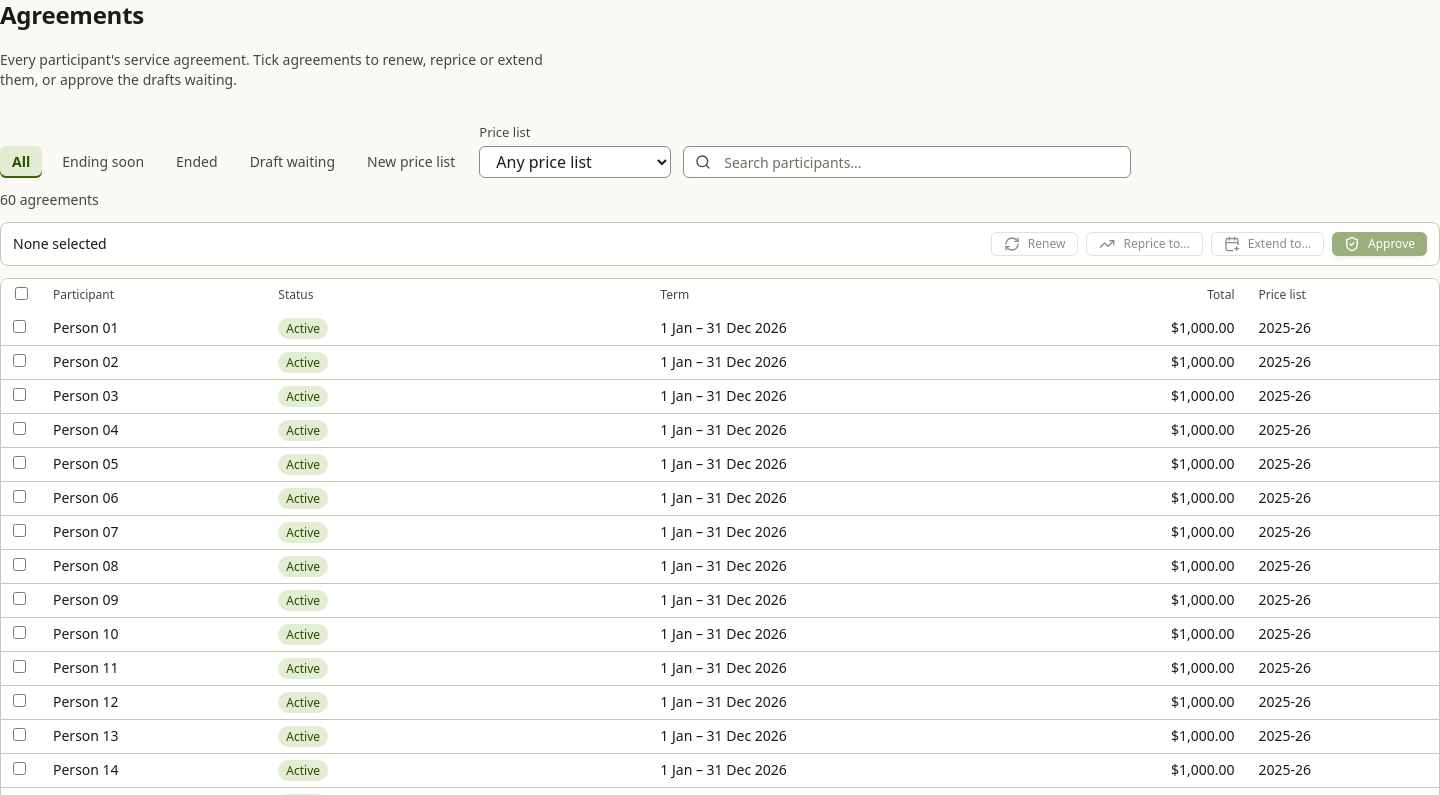
Test case: AgreementsPage bulk actions (real hook) › sends the chosen price list on a reprice
Expected: the text "Person 01" is shown, [53,318,119,337]
Click the checkbox named "Select row p1" at x=20, y=326, box [13,320,26,333]
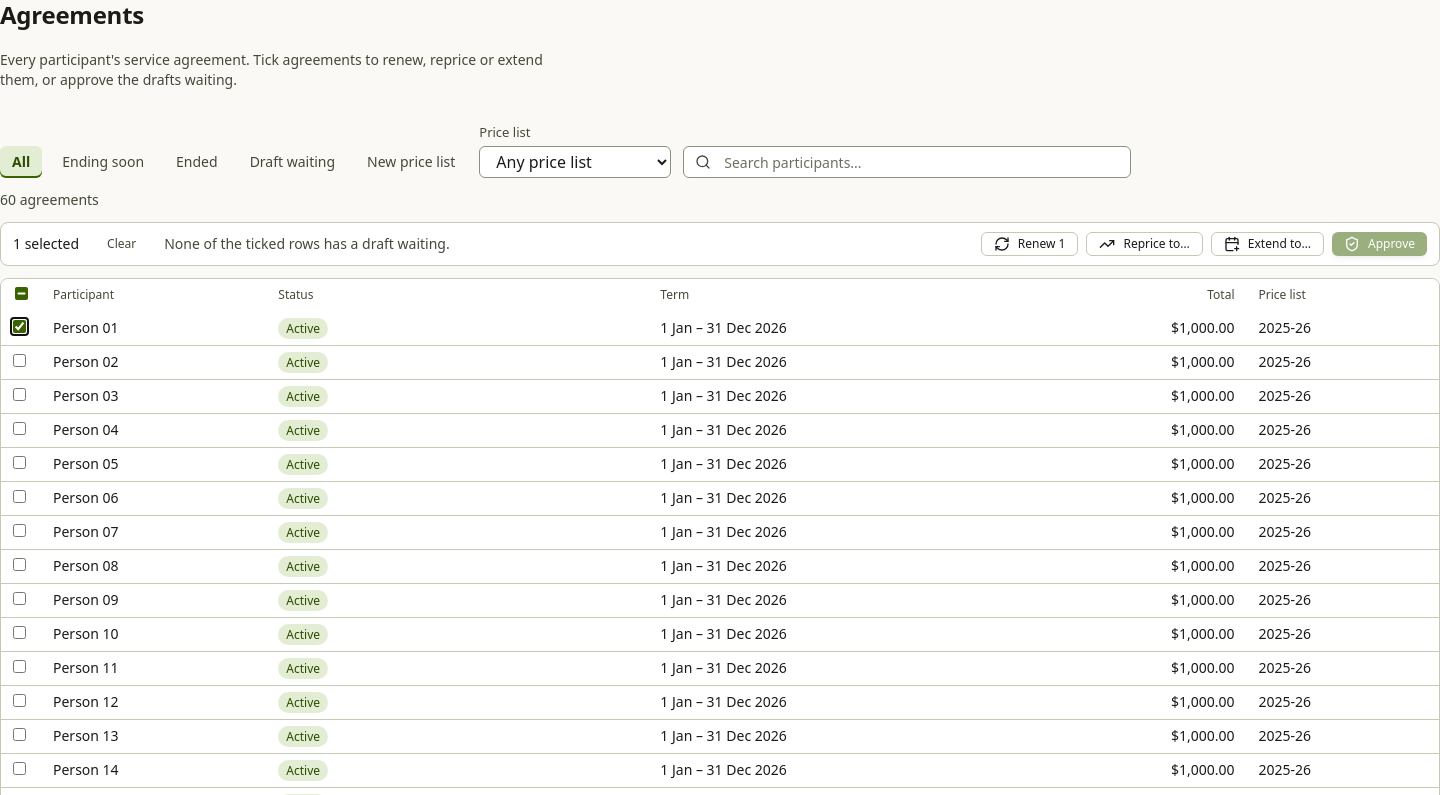
Click the button "Reprice to…" at x=1145, y=244, box [1086,232,1203,256]
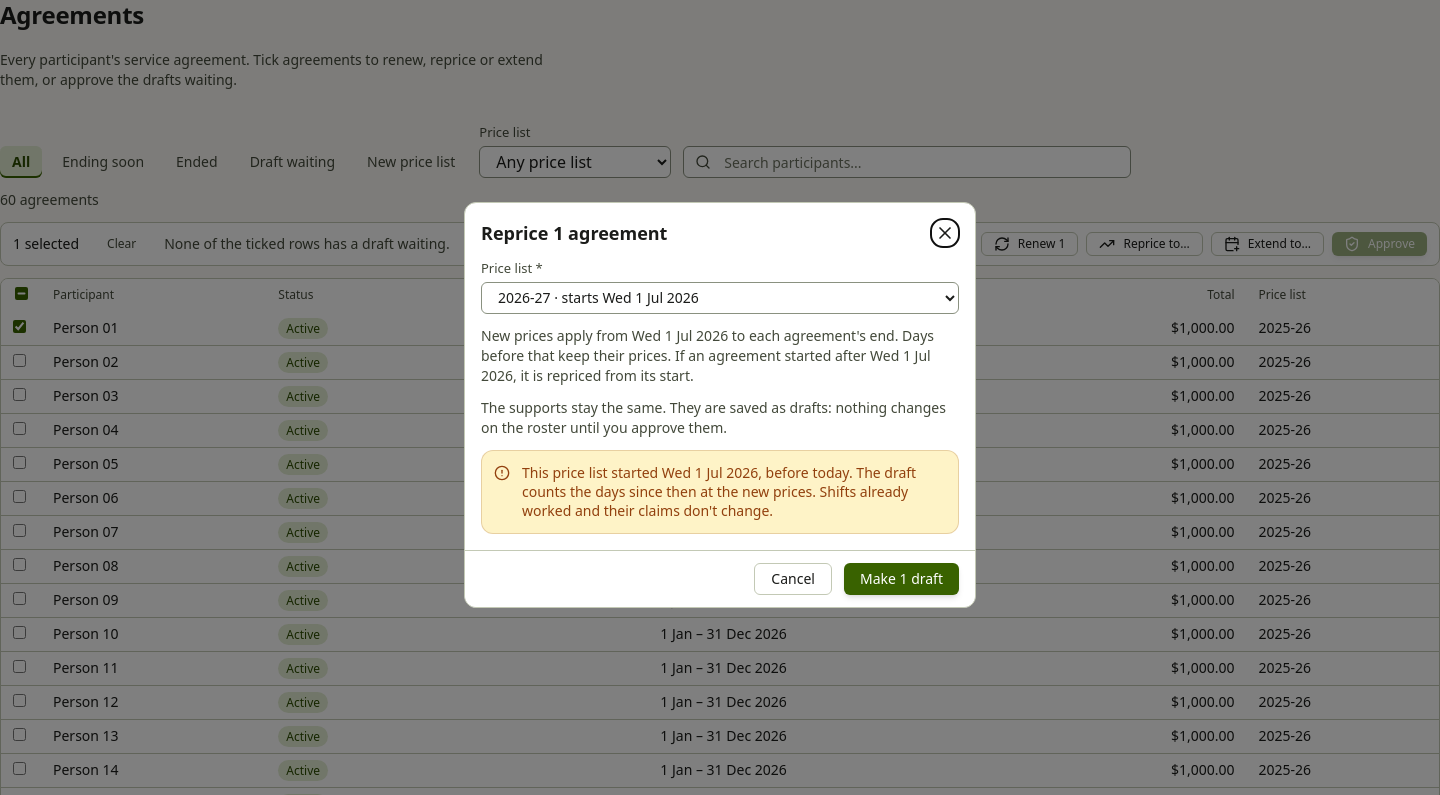
Click the button "Make 1 draft" at x=901, y=579, box [844,563,959,595]
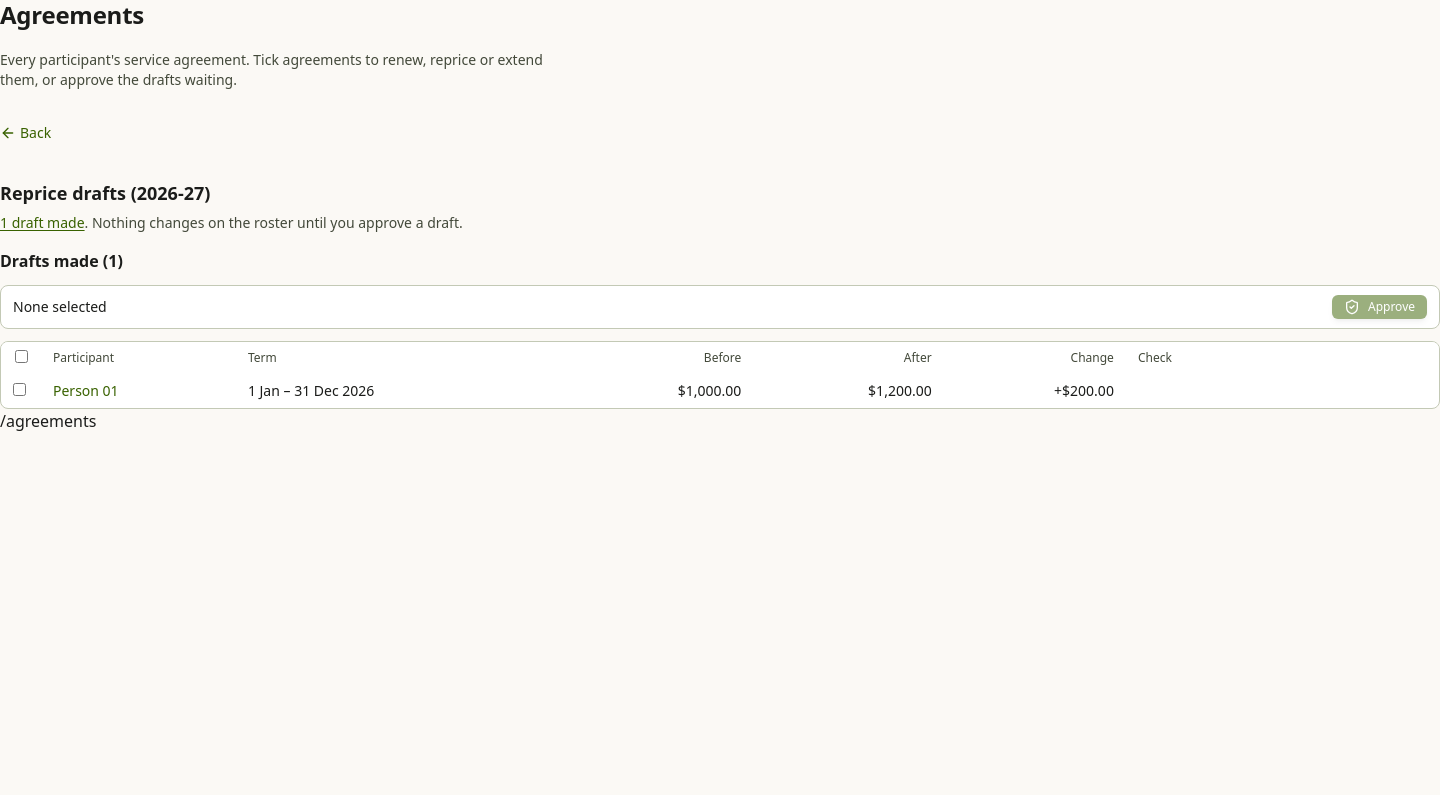
Expected: the heading "Reprice drafts (2026-27)" is shown, [0,181,210,205]
